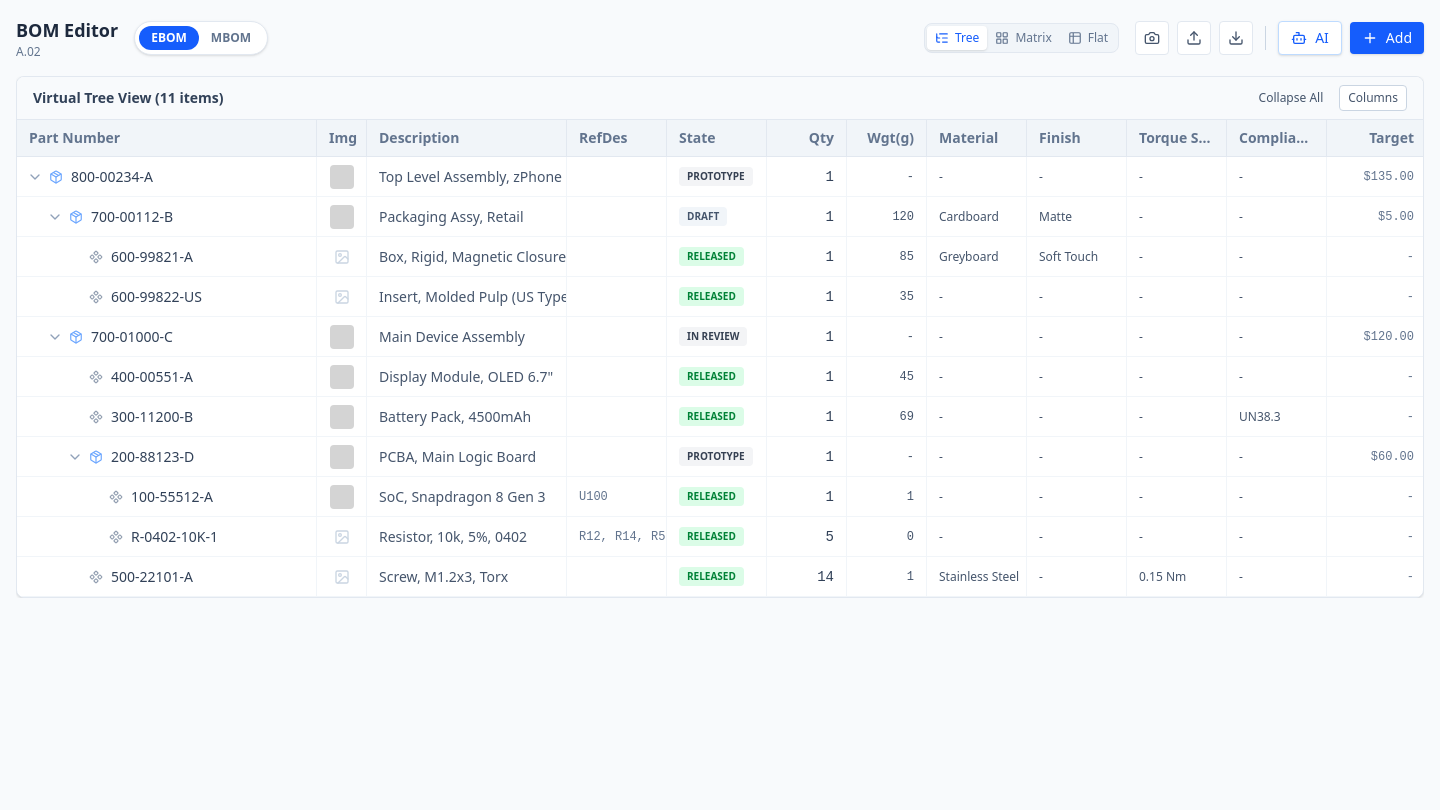
it: production core flows › adds an existing library part to the BOM from the Add Item flow
The width and height of the screenshot is (1440, 810).
Click the button with aria-label "Add Item": (1387, 38) [1350, 22, 1424, 54]
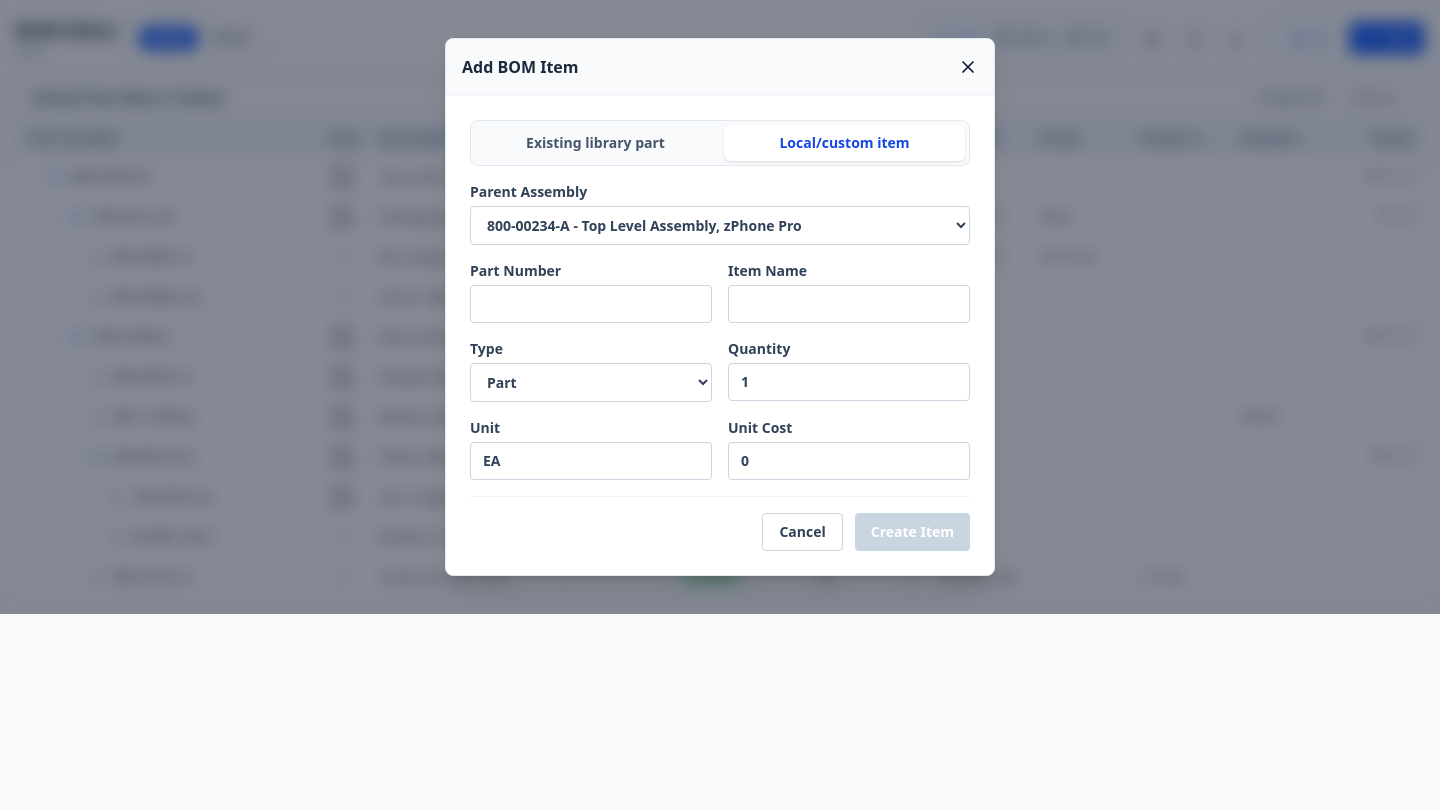
Click the button "Existing library part": (596, 143) [475, 125, 716, 161]
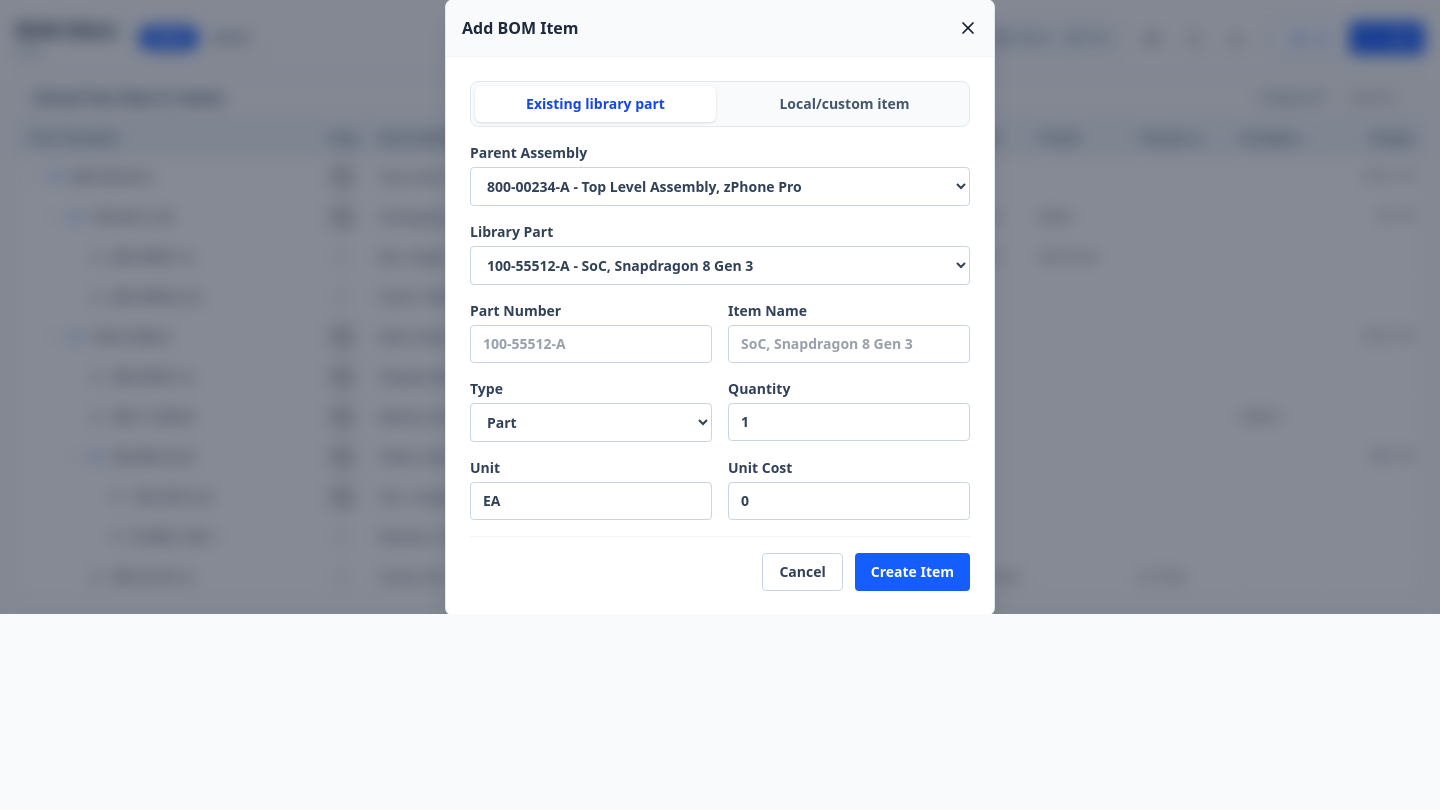
Select "110-22311-B - Memory, LPDDR5X 16GB" in the dropdown labelled "Library Part": (720, 265) [470, 246, 970, 284]
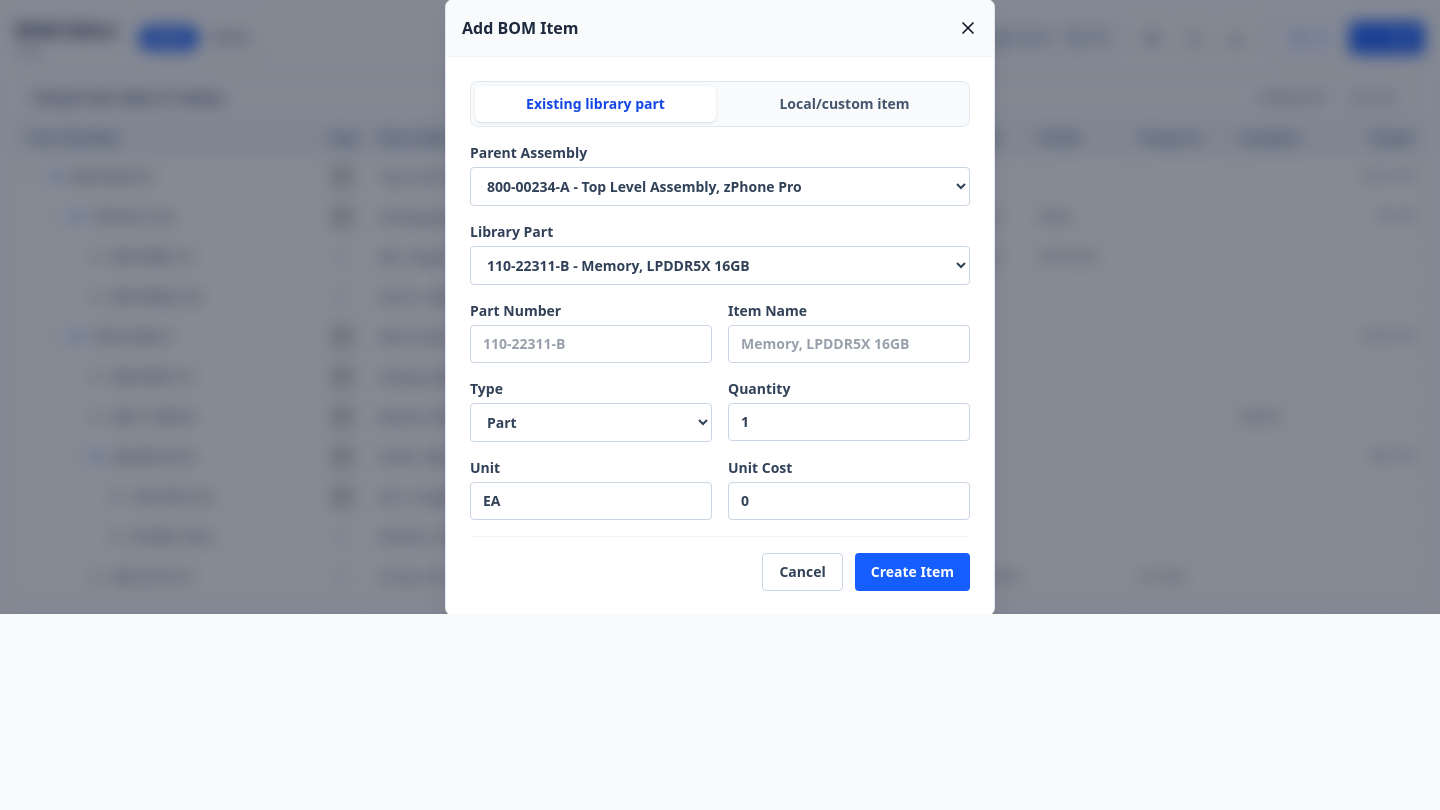
Replace the text in the number field labelled "Quantity" with "3": (849, 422) [728, 402, 970, 440]
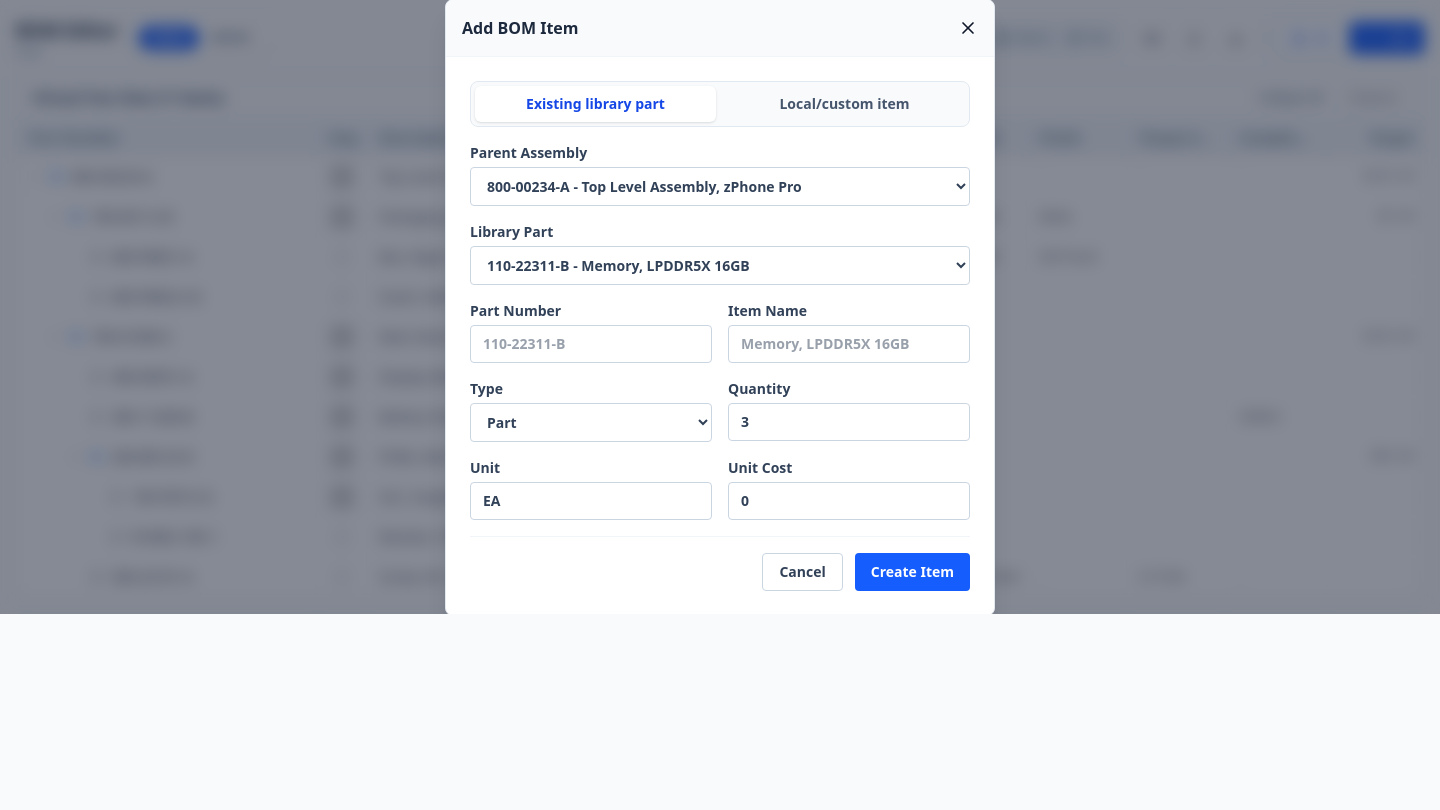
Click the button "Create Item": (912, 572) [855, 552, 970, 590]
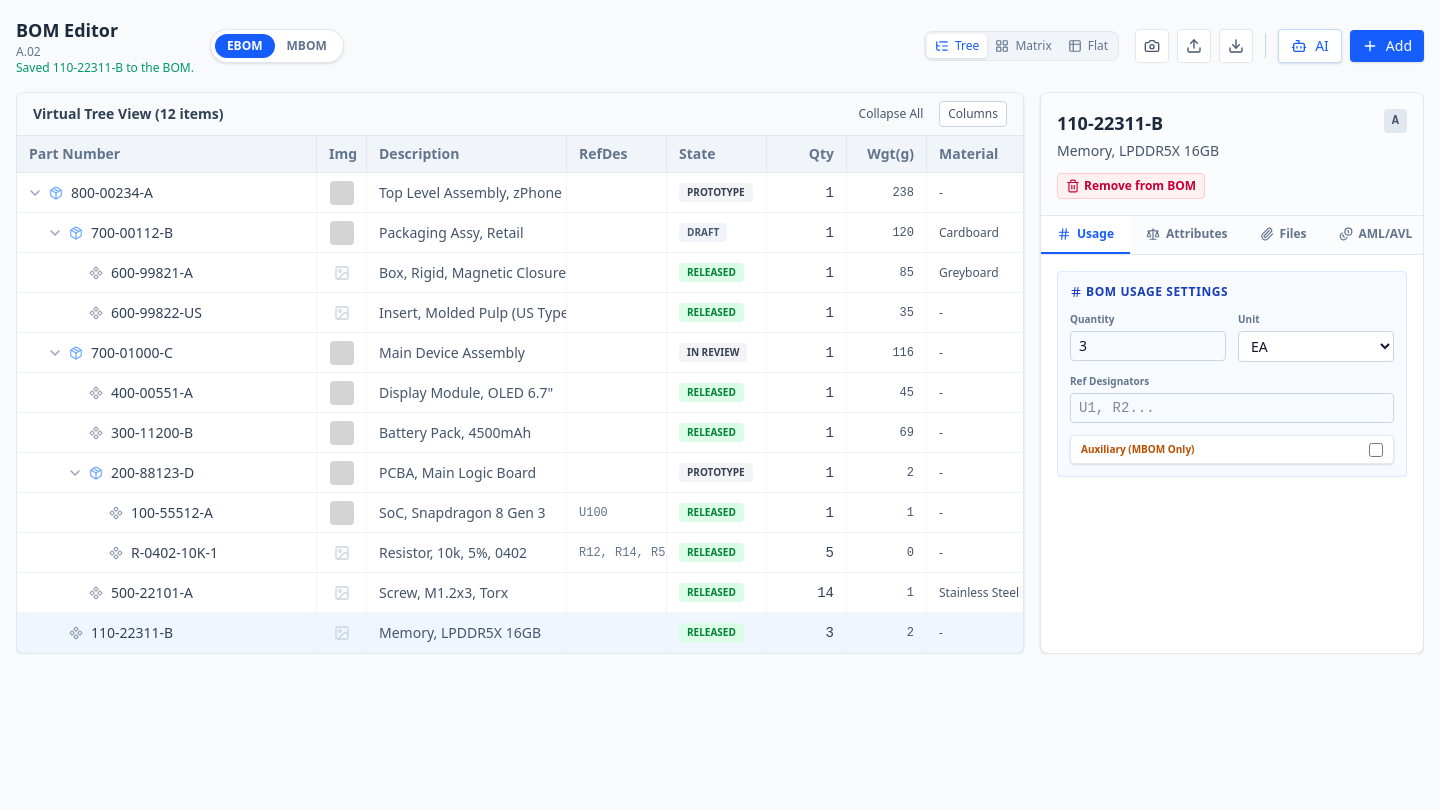
Result: the text "110-22311-B" is shown at [91, 622, 173, 642]
Result: the text "Saved 110-22311-B to the BOM." is shown at [16, 60, 194, 76]
